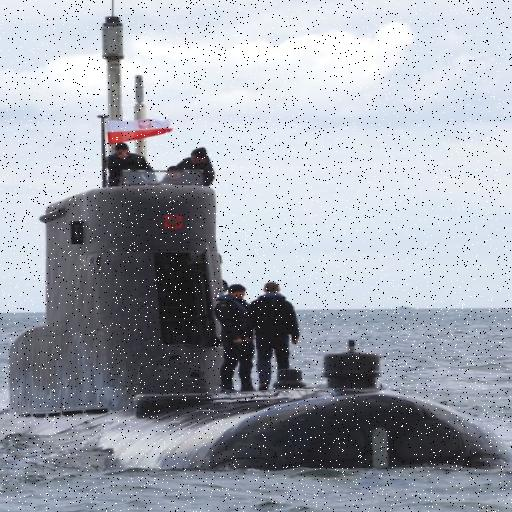submarine: (4, 184, 512, 470)
